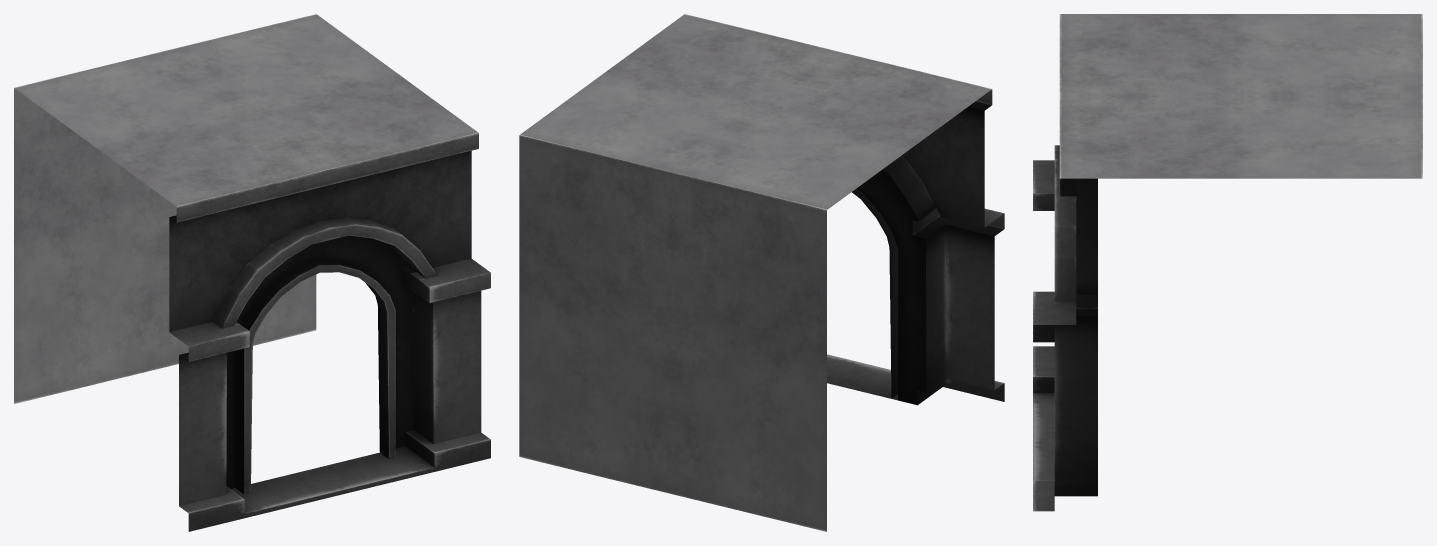
File: DoorEntrance.fbx
3 views of the same model, side by side, from view 1: azimuth 30°, elevation 25°; view 2: azimuth 150°, elevation 25°; view 3: azimuth 270°, elevation 25° (orthographic). The views are drawn at different scales.
Visible parts, largest first — view 1: Ground_LP.005_Cube.001; view 2: Ground_LP.005_Cube.001; view 3: Ground_LP.005_Cube.001.
Boxes of the visible parts, x1=… form: Ground_LP.005_Cube.001: x1=14, y1=14, x2=490, y2=531; Ground_LP.005_Cube.001: x1=519, y1=14, x2=1004, y2=531; Ground_LP.005_Cube.001: x1=1033, y1=14, x2=1422, y2=511.
Bounding box in the file's own units: 100 × 100 × 100.
Materials: 1 (1 with a texture image).
